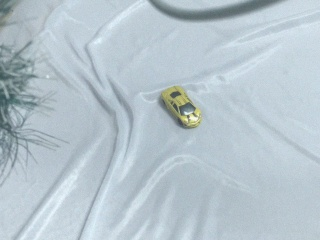toy_car: (161, 86, 201, 128)
